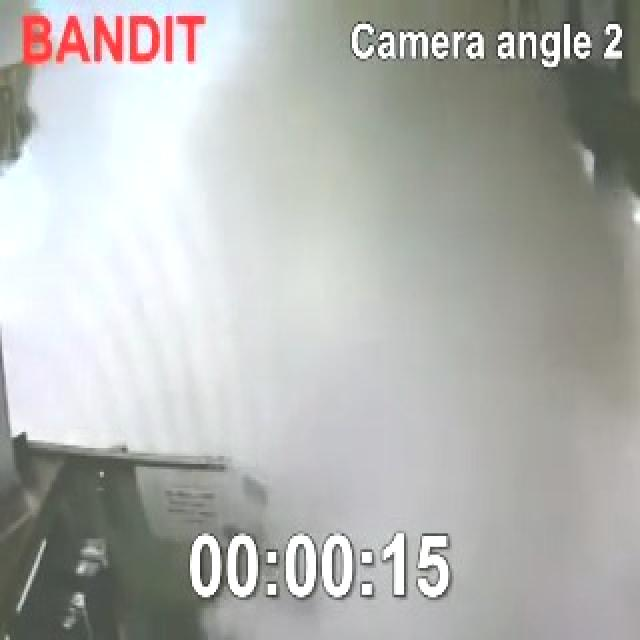smoke: (1, 0, 640, 640)
